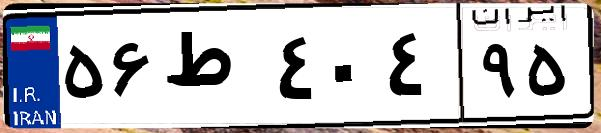0: (330, 28, 385, 110)
4: (270, 28, 330, 110), (385, 28, 445, 110)
5: (57, 26, 110, 100), (525, 38, 570, 115)
6: (110, 28, 158, 98)
9: (475, 38, 525, 113)
ط: (158, 20, 270, 120)
